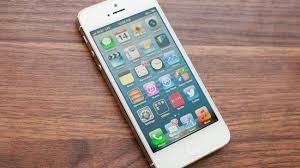iphone: (75, 1, 230, 168)
iphone5: (73, 1, 228, 168)
